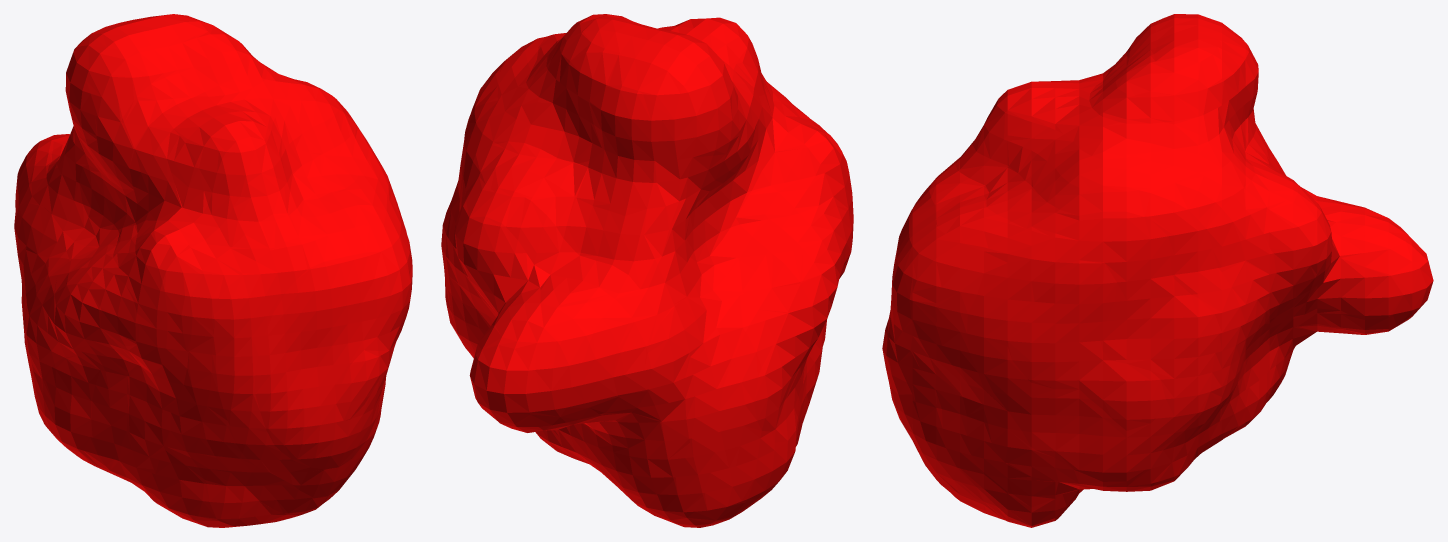
The model's file is mog_coarse.dae.
The picture shows the model from 3 angles, left to right: view 1: azimuth 30°, elevation 25°; view 2: azimuth 150°, elevation 25°; view 3: azimuth 270°, elevation 25°; orthographic projection. The views are drawn at different scales.
Parts seen in each view (by area): view 1: mog; view 2: mog; view 3: mog.
Boxes of the visible parts, bbox=[...] form: mog: bbox=[14, 14, 412, 527]; mog: bbox=[441, 14, 853, 527]; mog: bbox=[882, 14, 1433, 527].
Size of the model in its own units: 34.68 by 48.28 by 52.56.
